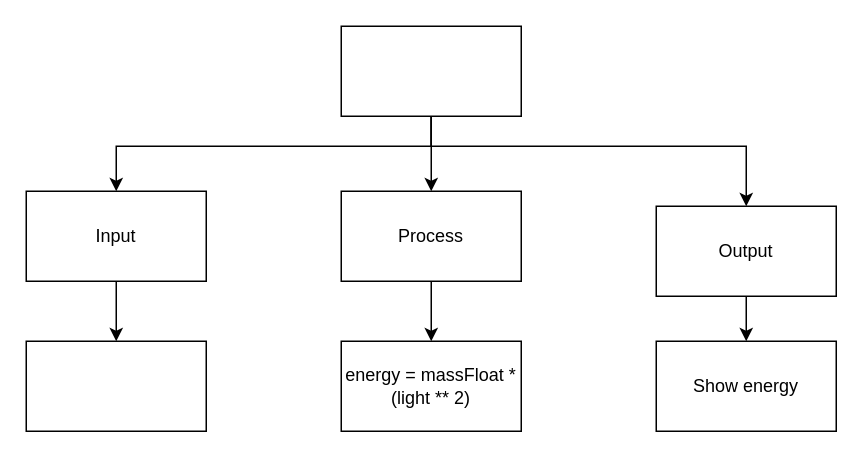
Image size: 863x458. Some labels were removed from this diagram. Each missing label, with the centre of its shape:
"E=mc^2 Program" goes at point (430, 70).
"Input mass" goes at point (115, 385).
